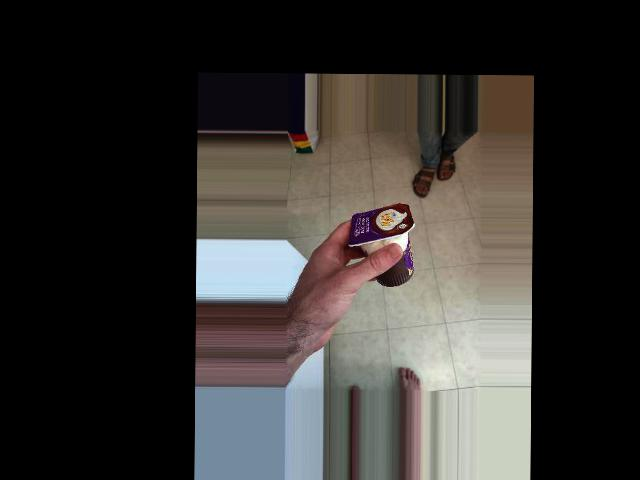milky: (358, 196, 445, 259)
